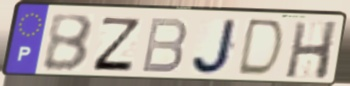B: (41, 13, 96, 74), (139, 16, 190, 76)
D: (234, 17, 287, 80)
H: (283, 20, 340, 82)
J: (190, 18, 241, 77)
Z: (89, 15, 143, 73)
